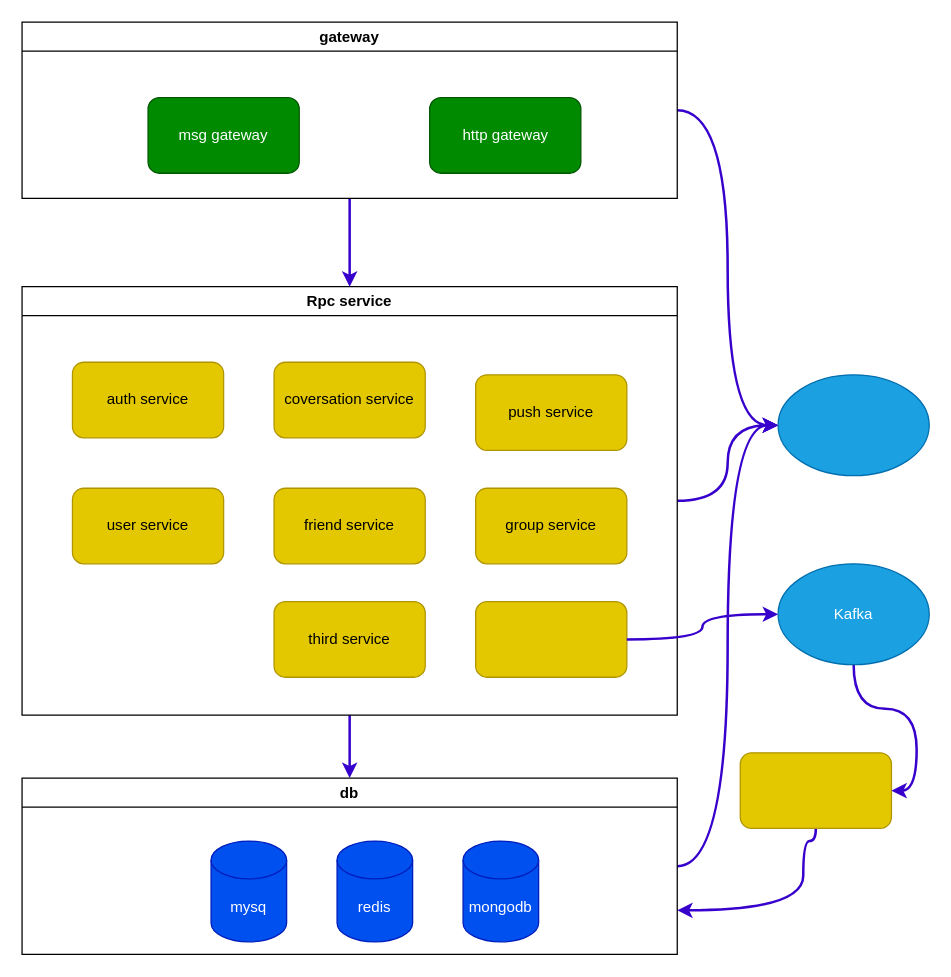
This 951x977 diagram has some shape labels left out. The shapes that lost their labels are listed below. From the top down, each one's centre as x and y in pixels, then its label:
pixel 853 425: Zookeeper
pixel 550 638: msg service
pixel 815 790: msg transfer consumer
